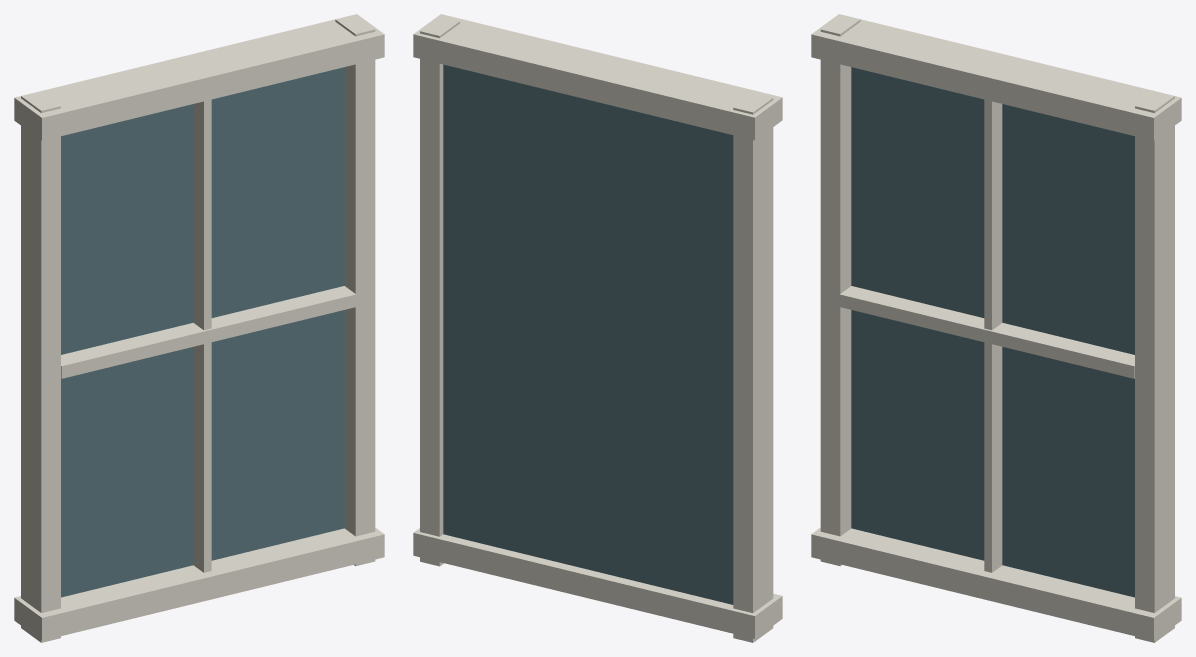
3 renders of one model, left to right at view 1: azimuth 30°, elevation 25°; view 2: azimuth 150°, elevation 25°; view 3: azimuth 330°, elevation 25°, orthographic.
Visible parts, largest first — view 1: QH-A0041_V02_geometry; view 2: QH-A0041_V02_geometry; view 3: QH-A0041_V02_geometry.
Boxes of the visible parts, box(x1,y1,x2,y2) form: QH-A0041_V02_geometry: box(14, 14, 384, 642); QH-A0041_V02_geometry: box(413, 14, 782, 642); QH-A0041_V02_geometry: box(811, 14, 1181, 642).
Bounding box in the file's own units: 1.56 × 2.32 × 0.22.
